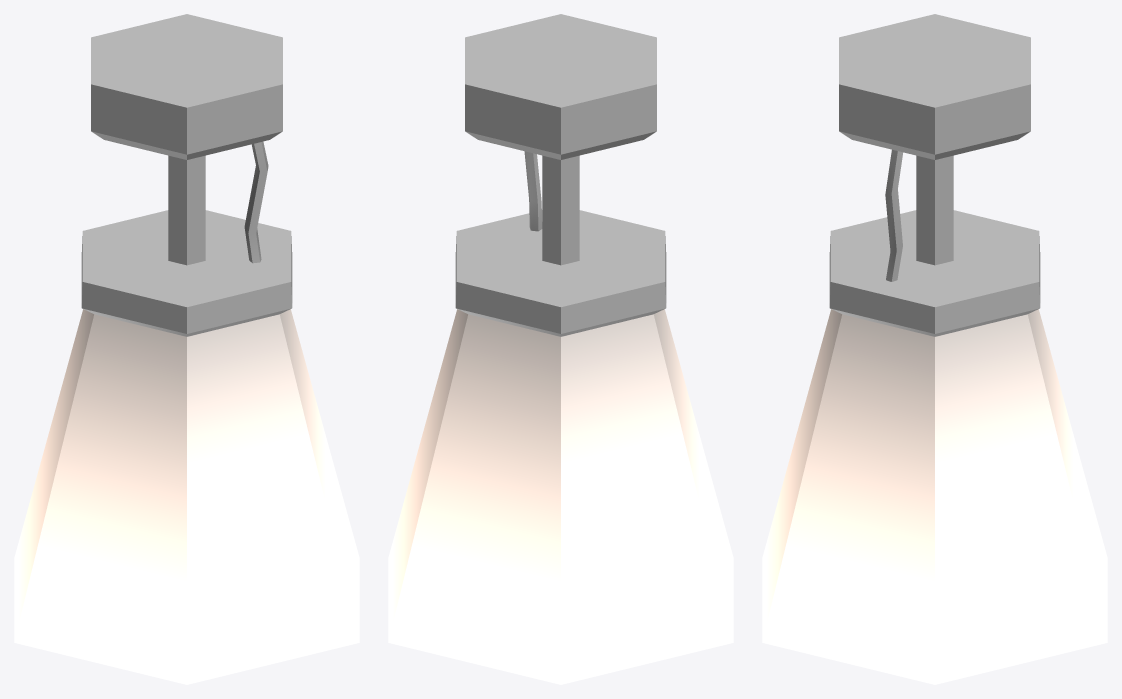
Rendered from SM_Prop_Light_03.fbx.
3 views of the same model, side by side, from view 1: azimuth 30°, elevation 25°; view 2: azimuth 150°, elevation 25°; view 3: azimuth 270°, elevation 25° (orthographic).
Parts seen in each view (by area): view 1: SM_Prop_Light_03; view 2: SM_Prop_Light_03; view 3: SM_Prop_Light_03.
Boxes of the visible parts, bbox=[...] form: SM_Prop_Light_03: bbox=[14, 14, 359, 684]; SM_Prop_Light_03: bbox=[388, 14, 733, 684]; SM_Prop_Light_03: bbox=[762, 14, 1107, 684].
Size of the model in its own units: 33.49 by 49.97 by 29.
